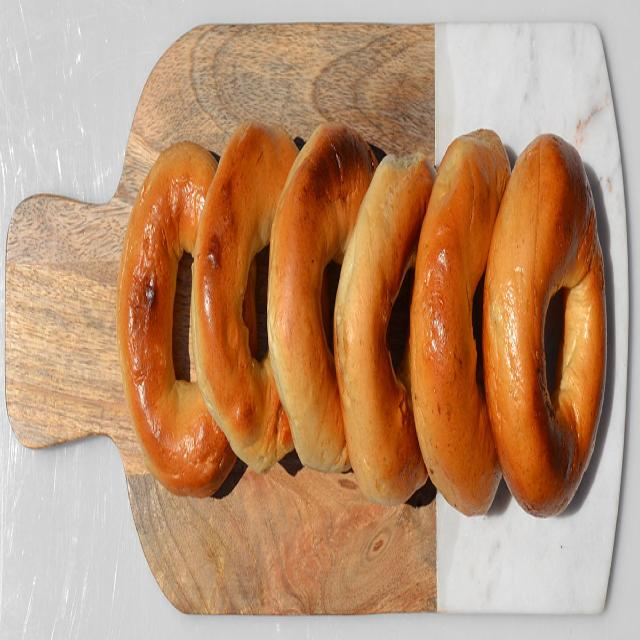Bagel: (482, 133, 606, 515), (116, 142, 235, 496), (410, 131, 510, 514), (268, 122, 376, 470), (191, 122, 296, 471), (334, 154, 436, 503)
